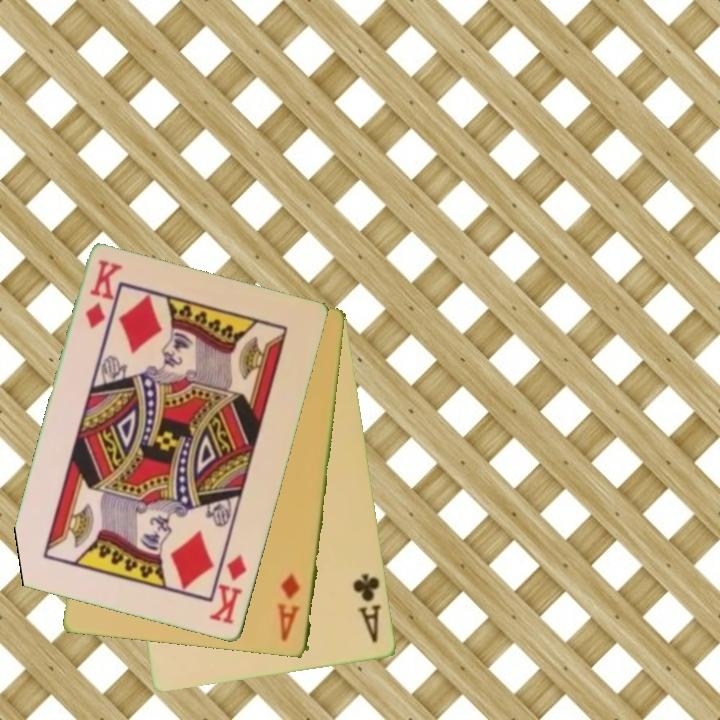Ac: (350, 570, 385, 646)
Ad: (275, 570, 304, 645)
Kd: (207, 551, 250, 628), (81, 256, 124, 333)
